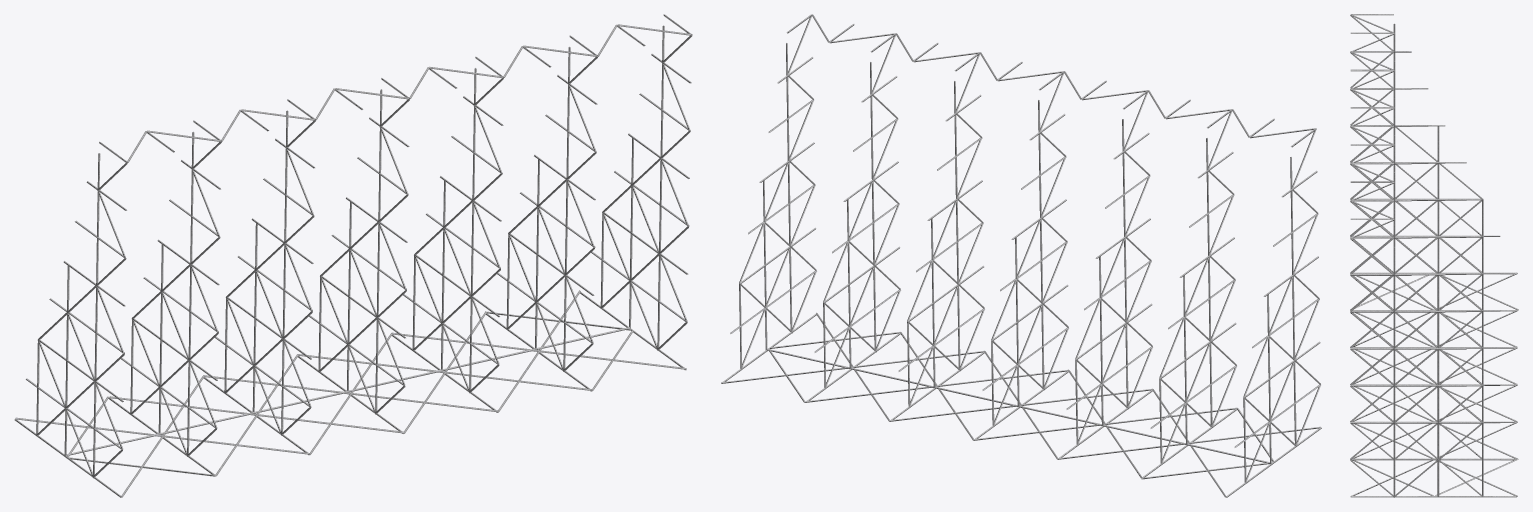
Rendered from _0TRIBUENE_02_022_SUB2.obj.
3 views of the same model, side by side, from view 1: azimuth 30°, elevation 25°; view 2: azimuth 150°, elevation 25°; view 3: azimuth 270°, elevation 25° (orthographic). The views are drawn at different scales.
Visible parts, largest first — view 1: _0TRIBUENE_02_022_SUB2_Scene.181; view 2: _0TRIBUENE_02_022_SUB2_Scene.181; view 3: _0TRIBUENE_02_022_SUB2_Scene.181.
Boxes of the visible parts, box(x1,y1,x2,y2) form: _0TRIBUENE_02_022_SUB2_Scene.181: box(14, 14, 692, 497); _0TRIBUENE_02_022_SUB2_Scene.181: box(721, 14, 1321, 497); _0TRIBUENE_02_022_SUB2_Scene.181: box(1350, 14, 1518, 497).
Bounding box in the file's own units: 4862 × 2810 × 1591.
